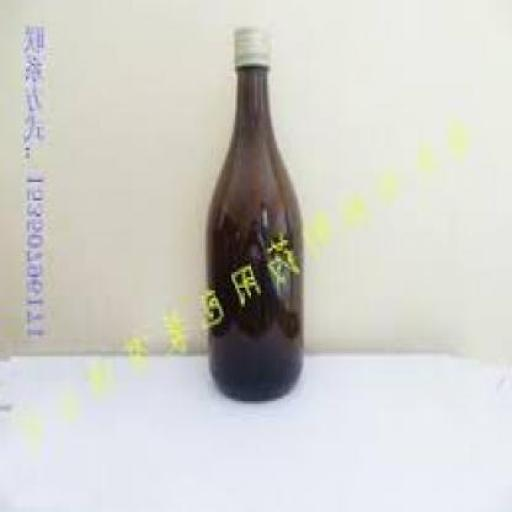glass: (212, 64, 308, 398)
metal: (236, 26, 272, 66)
